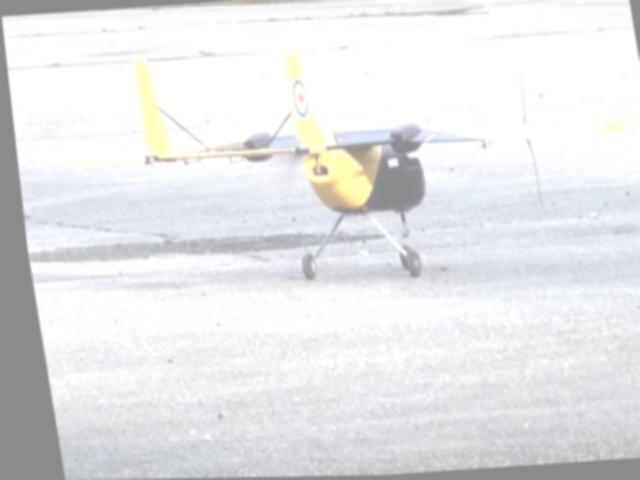iha: (52, 28, 640, 300)
